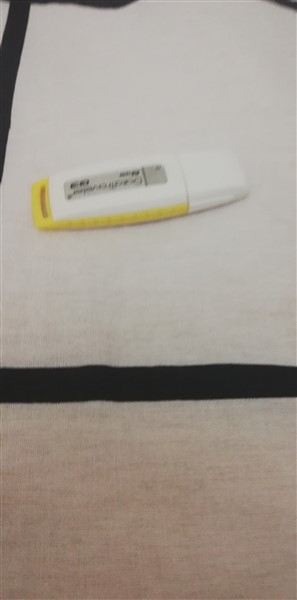flash disk: (28, 145, 256, 240)
